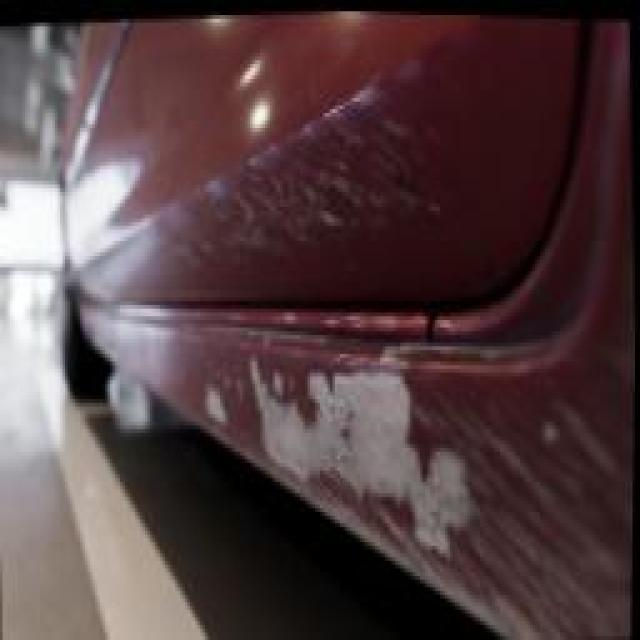Door: (155, 38, 639, 639)
